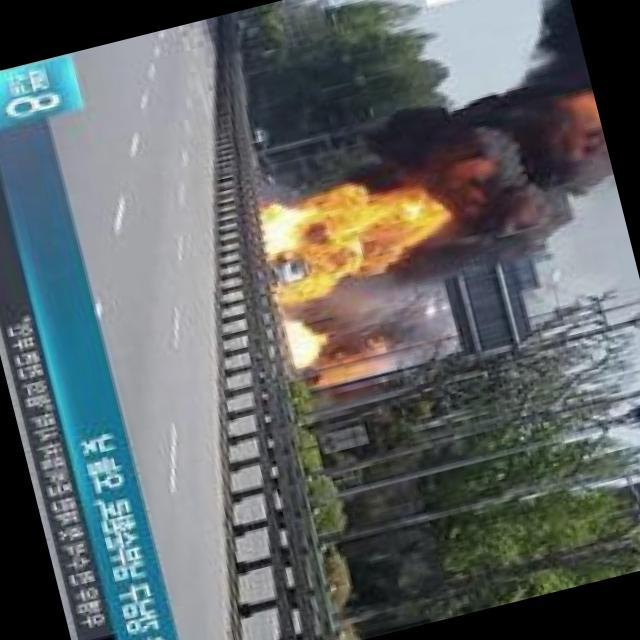Fire: (255, 166, 440, 301), (282, 312, 332, 368), (321, 357, 393, 384)
